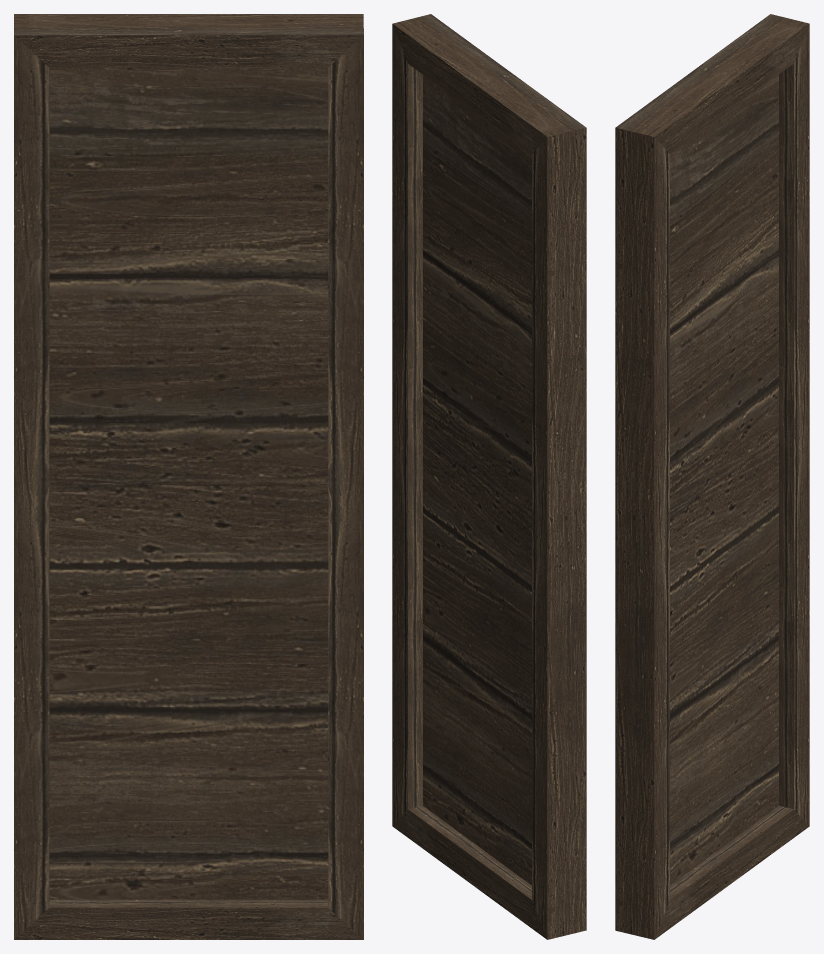
The model's file is ARC1010364.fbx.
3 renders of one model, left to right at view 1: azimuth 30°, elevation 25°; view 2: azimuth 150°, elevation 25°; view 3: azimuth 270°, elevation 25°, orthographic. The views are drawn at different scales.
Visible parts, largest first — view 1: smARC1010364; view 2: smARC1010364; view 3: smARC1010364.
Part boxes in pixels (bbox=[...]): smARC1010364: bbox=[14, 14, 363, 939]; smARC1010364: bbox=[392, 14, 586, 939]; smARC1010364: bbox=[615, 14, 809, 939].
Bounding box in the file's own units: 38.23 × 116 × 25.5.
Materials: 1 (1 with a texture image).
